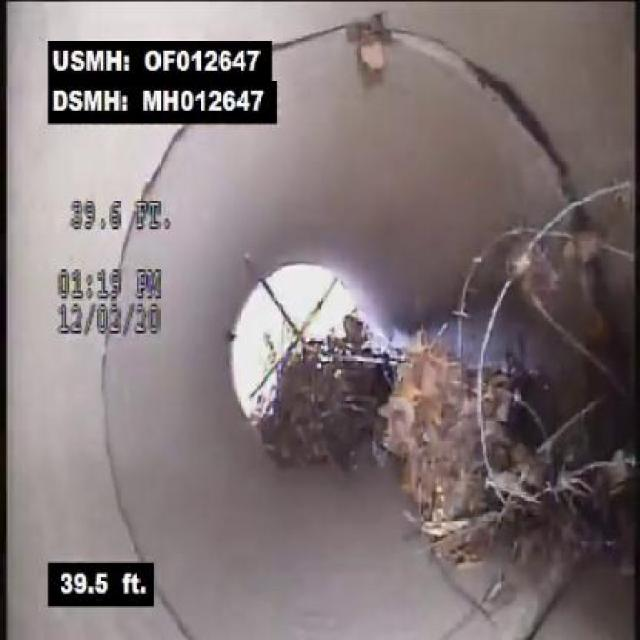Debris: (352, 309, 588, 574)
